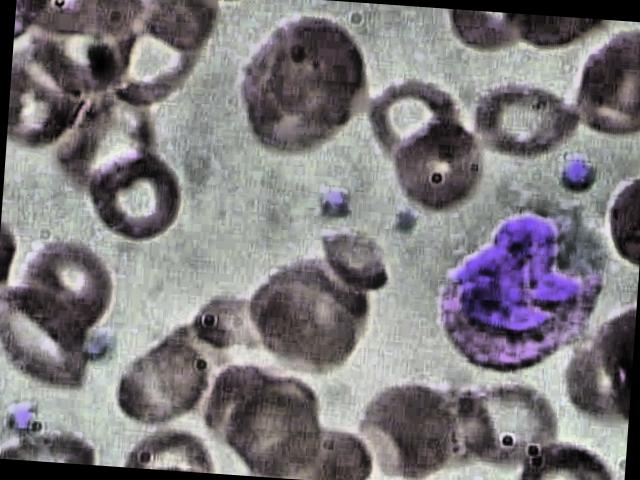Platelets: (557, 146, 609, 198), (315, 182, 363, 228), (84, 324, 126, 364), (2, 397, 43, 437)
RBC: (0, 276, 99, 398), (462, 73, 590, 163), (353, 377, 462, 480), (76, 144, 190, 242), (387, 116, 492, 218), (317, 228, 403, 290), (515, 434, 619, 480)
WBC: (422, 189, 628, 383)
